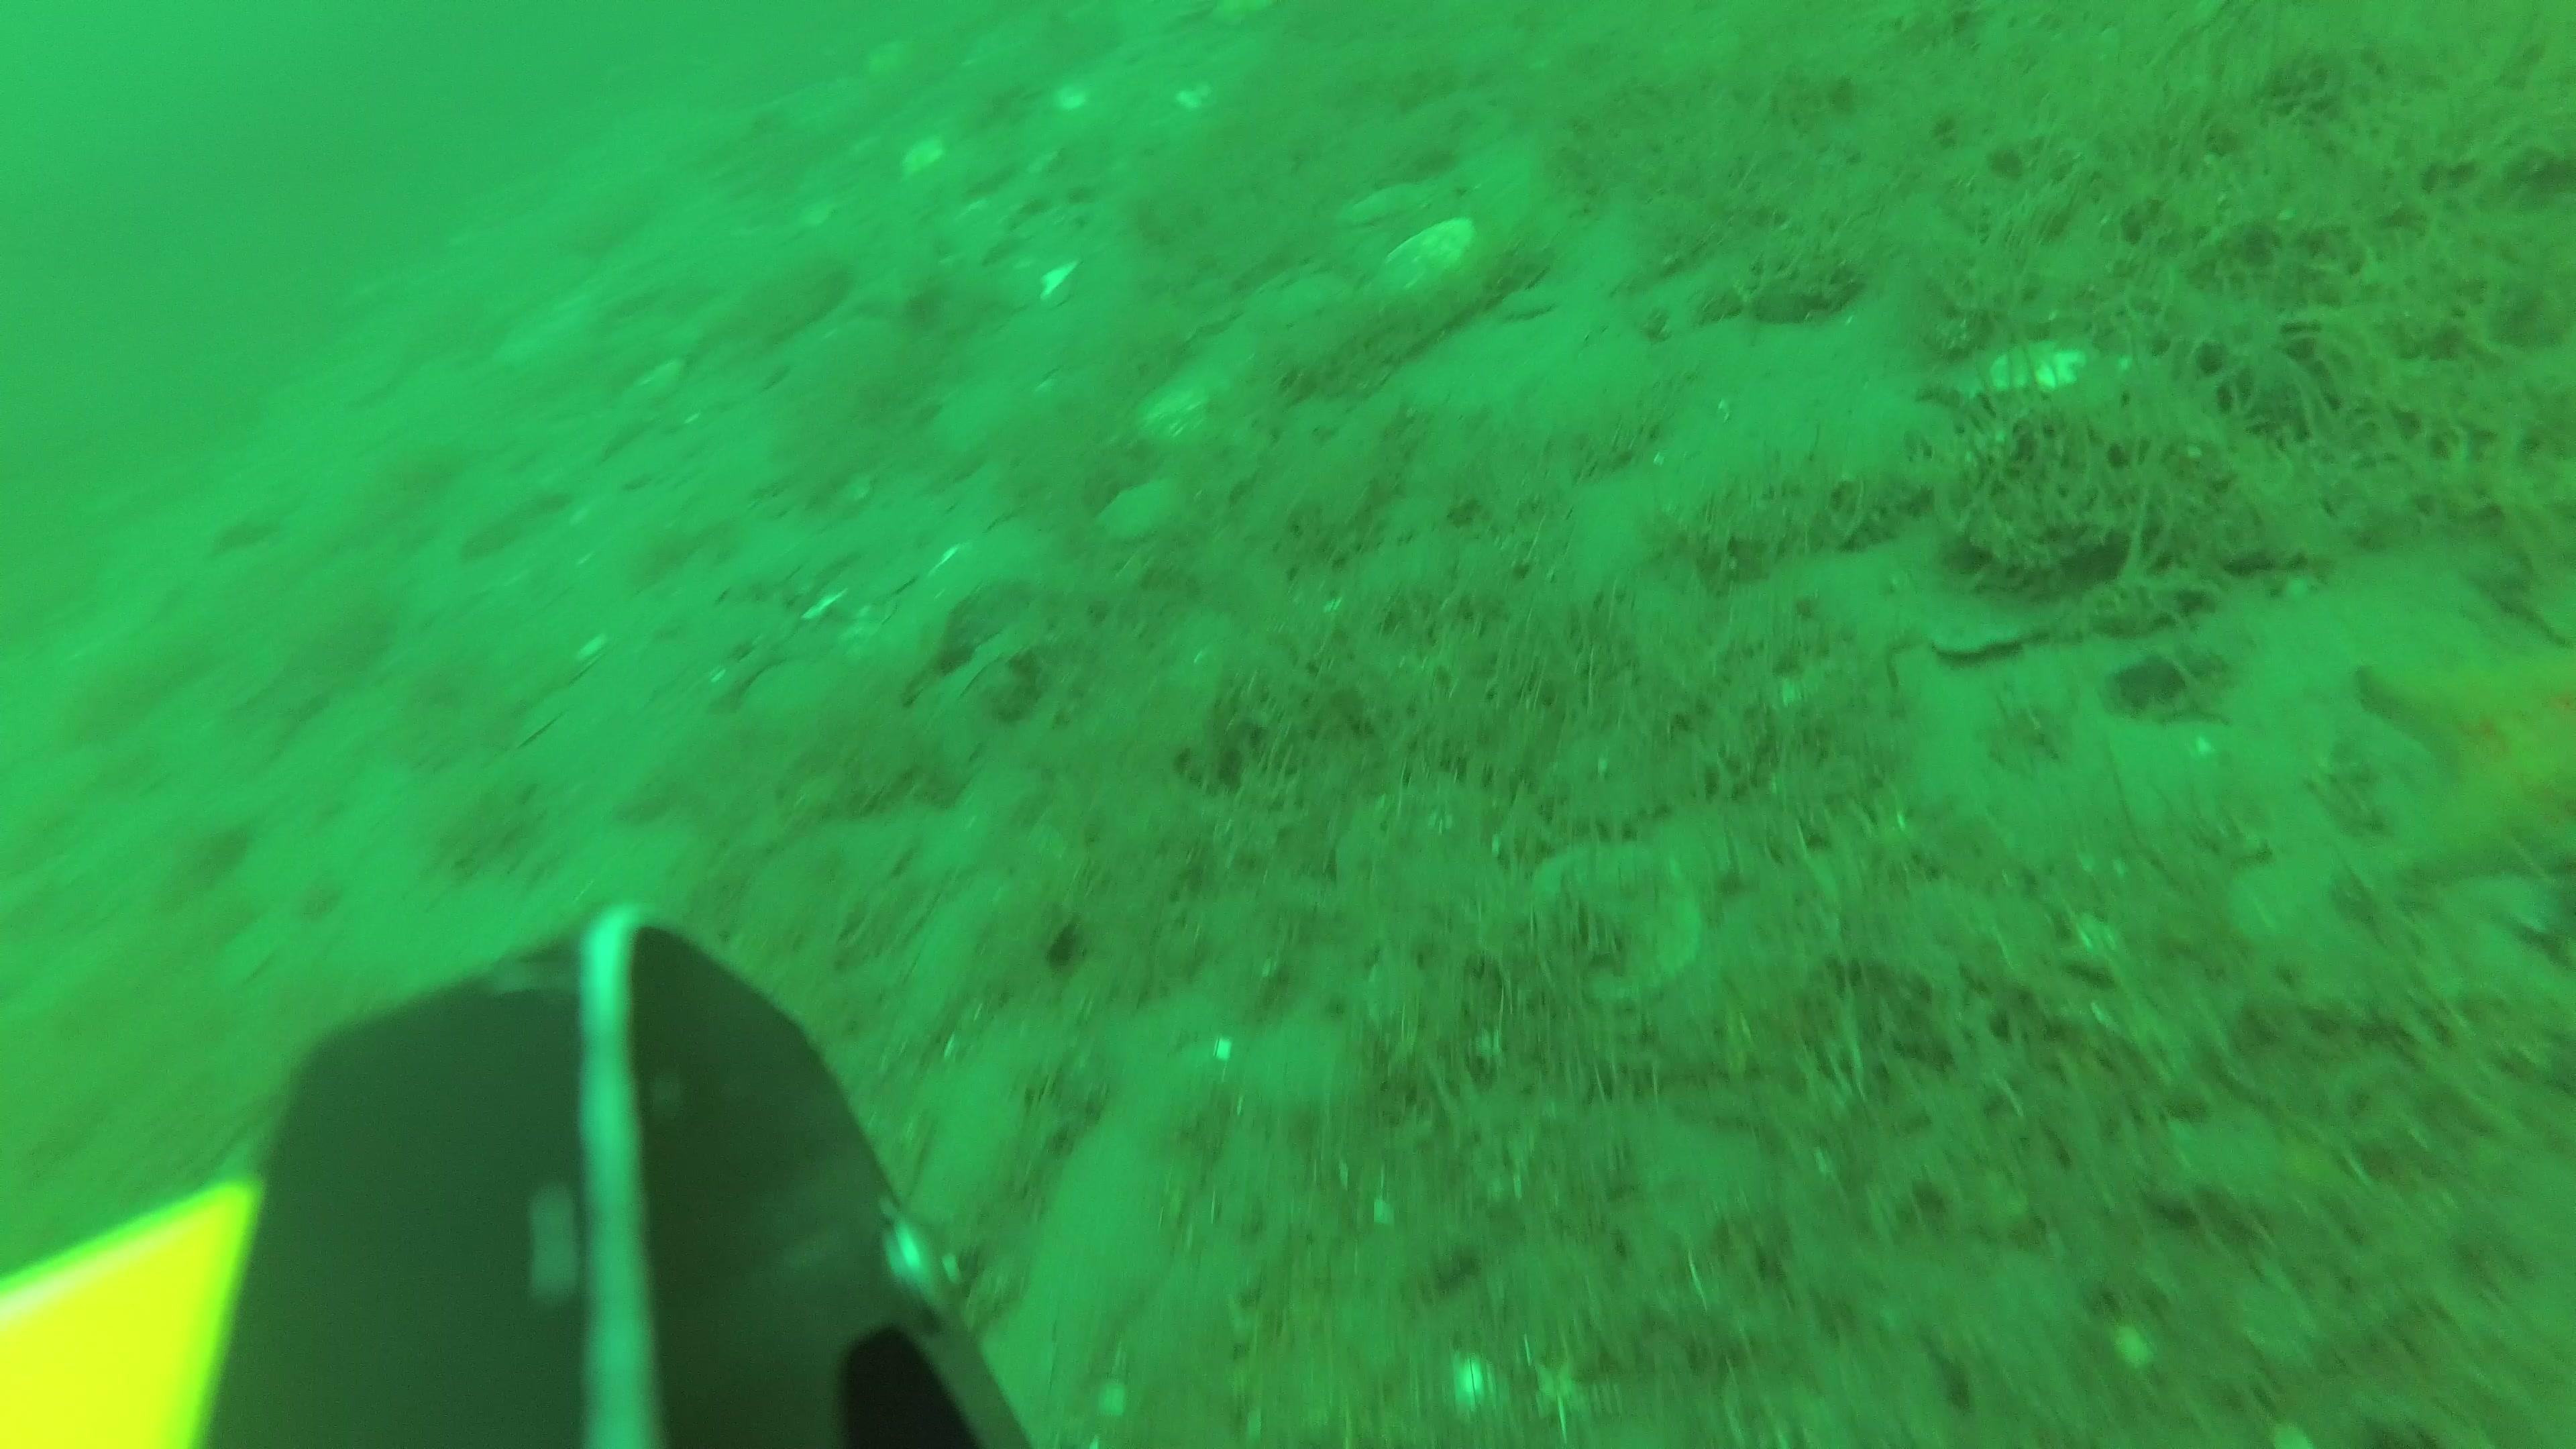scallop: (1143, 364, 1231, 448), (1382, 223, 1472, 299), (1095, 481, 1177, 538), (892, 140, 947, 186)
starfish: (2353, 633, 2576, 867)
